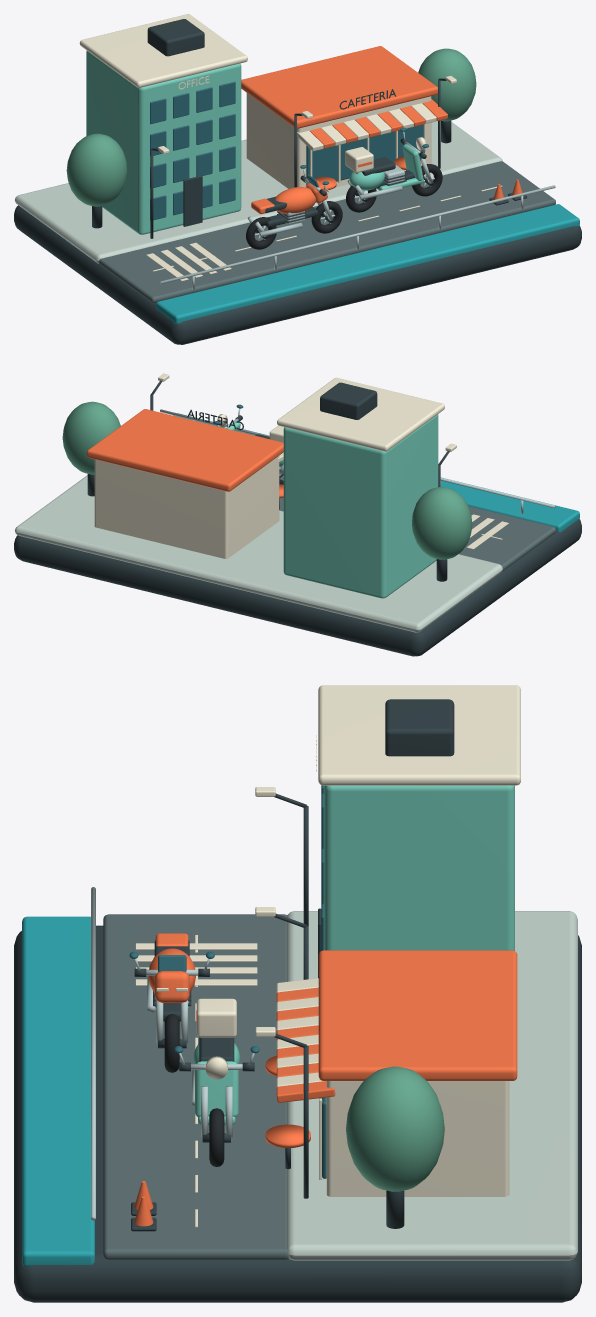
File: city_day.glb
3 views of the same model, one above another, from view 1: azimuth 30°, elevation 25°; view 2: azimuth 150°, elevation 25°; view 3: azimuth 270°, elevation 25° (orthographic). The views are drawn at different scales.
Visible parts, largest first — view 1: LR Street, LR Office tower, LR Diorama foundation, LR Canal, LR Sidewalk, LR Cafe roof, LR Office roof, LR Cafeteria, LR Tree canopy, LR Tree canopy.001, LR Cafe windows, LR Rooftop plant (+10 smaller); view 2: LR Office tower, LR Sidewalk, LR Diorama foundation, LR Cafeteria, LR Cafe roof, LR Office roof, LR Tree canopy, LR Street, LR Canal, LR Tree canopy.001, LR Rooftop plant, LR Canal handrail; view 3: LR Street, LR Sidewalk, LR Office tower, LR Diorama foundation, LR Cafe roof, LR Canal, LR Office roof, LR Cafeteria, LR Tree canopy.001, LR Rooftop plant, LR Canal handrail, LR Delivery box.001 (+8 smaller).
Boxes of the visible parts, x1,y1,x2,y2 form: LR Street: [99, 161, 555, 303]; LR Office tower: [86, 50, 241, 234]; LR Diorama foundation: [14, 205, 581, 344]; LR Canal: [156, 204, 579, 324]; LR Sidewalk: [15, 121, 502, 263]; LR Cafe roof: [241, 46, 437, 128]; LR Office roof: [79, 14, 247, 87]; LR Cafeteria: [246, 93, 431, 188]; LR Tree canopy: [66, 133, 127, 206]; LR Tree canopy.001: [418, 48, 476, 121]; LR Cafe windows: [306, 124, 423, 184]; LR Rooftop plant: [147, 19, 204, 56]; LR Office tower: [283, 414, 438, 598]; LR Sidewalk: [15, 475, 502, 632]; LR Diorama foundation: [14, 519, 581, 656]; LR Cafeteria: [94, 456, 279, 558]; LR Cafe roof: [87, 409, 283, 491]; LR Office roof: [277, 377, 444, 451]; LR Tree canopy: [412, 487, 472, 559]; LR Street: [279, 467, 555, 571]; LR Canal: [173, 413, 579, 532]; LR Tree canopy.001: [62, 401, 120, 474]; LR Rooftop plant: [320, 382, 377, 419]; LR Canal handrail: [160, 409, 555, 508]; LR Street: [103, 914, 288, 1259]; LR Sidewalk: [287, 911, 577, 1260]; LR Office tower: [324, 785, 514, 950]; LR Diorama foundation: [14, 925, 581, 1302]; LR Cafe roof: [318, 950, 517, 1080]; LR Canal: [22, 916, 94, 1266]; LR Office roof: [318, 685, 520, 785]; LR Cafeteria: [326, 1081, 509, 1196]; LR Tree canopy.001: [346, 1066, 444, 1191]; LR Rooftop plant: [385, 699, 454, 756]; LR Canal handrail: [91, 887, 95, 1220]; LR Delivery box.001: [196, 998, 236, 1037].
Size of the model in its own units: 10 by 4.79 by 7.
